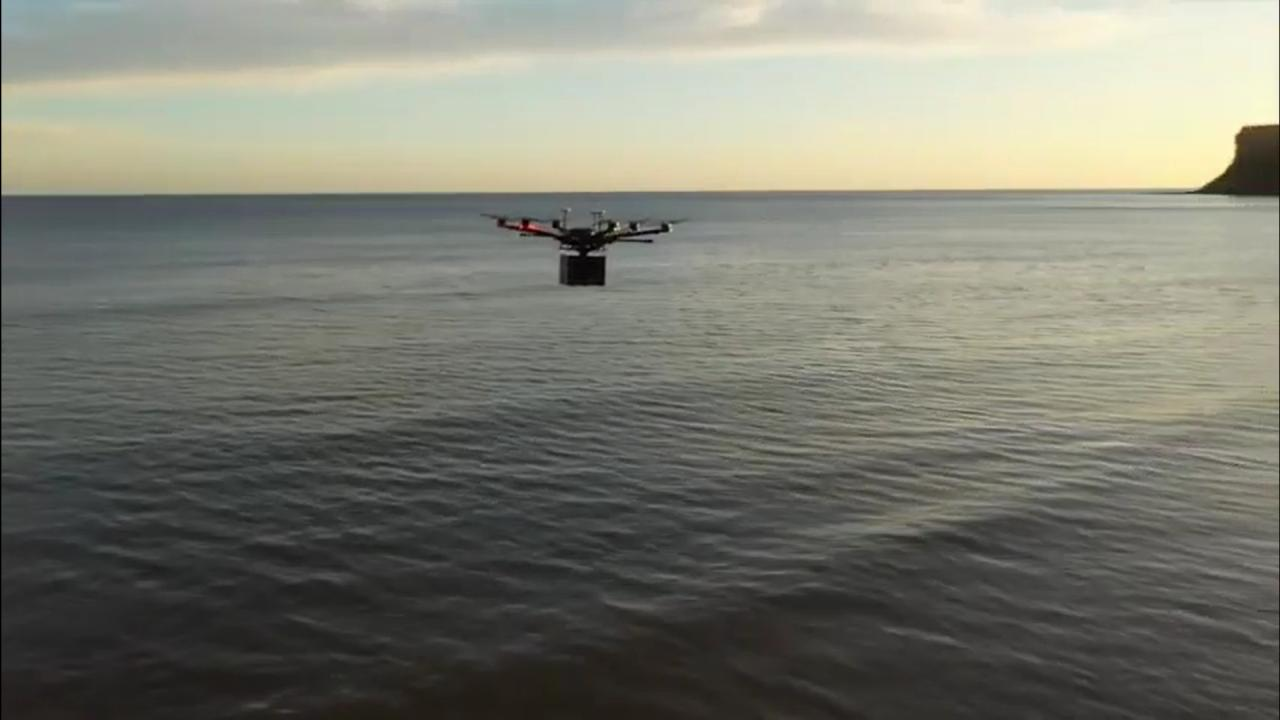Drone: (468, 198, 703, 265)
